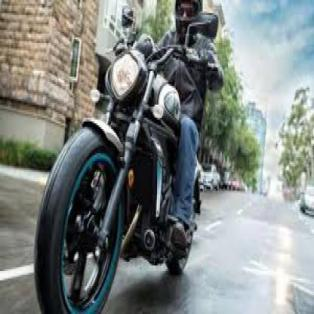Motocicleta: (30, 3, 206, 312)
